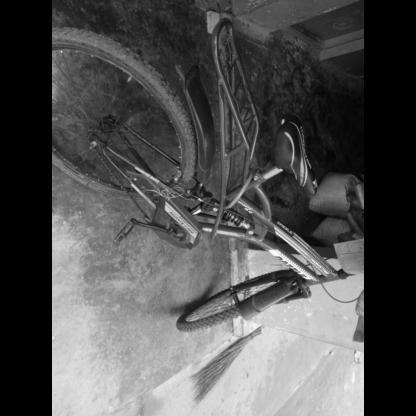Bicycle: (48, 3, 365, 348)
